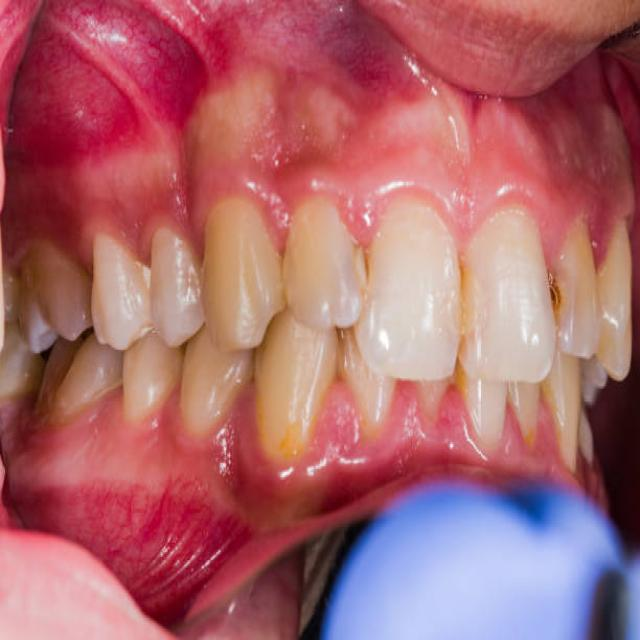Gingivitis: (94, 478, 224, 586), (309, 12, 414, 129), (524, 96, 617, 199)
